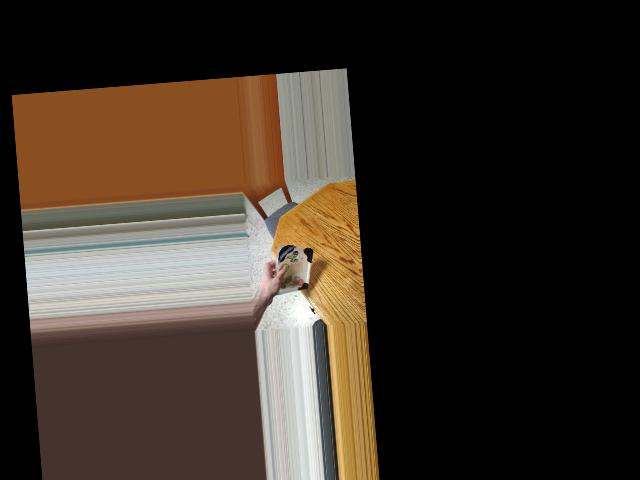cheese: (270, 241, 314, 303)
